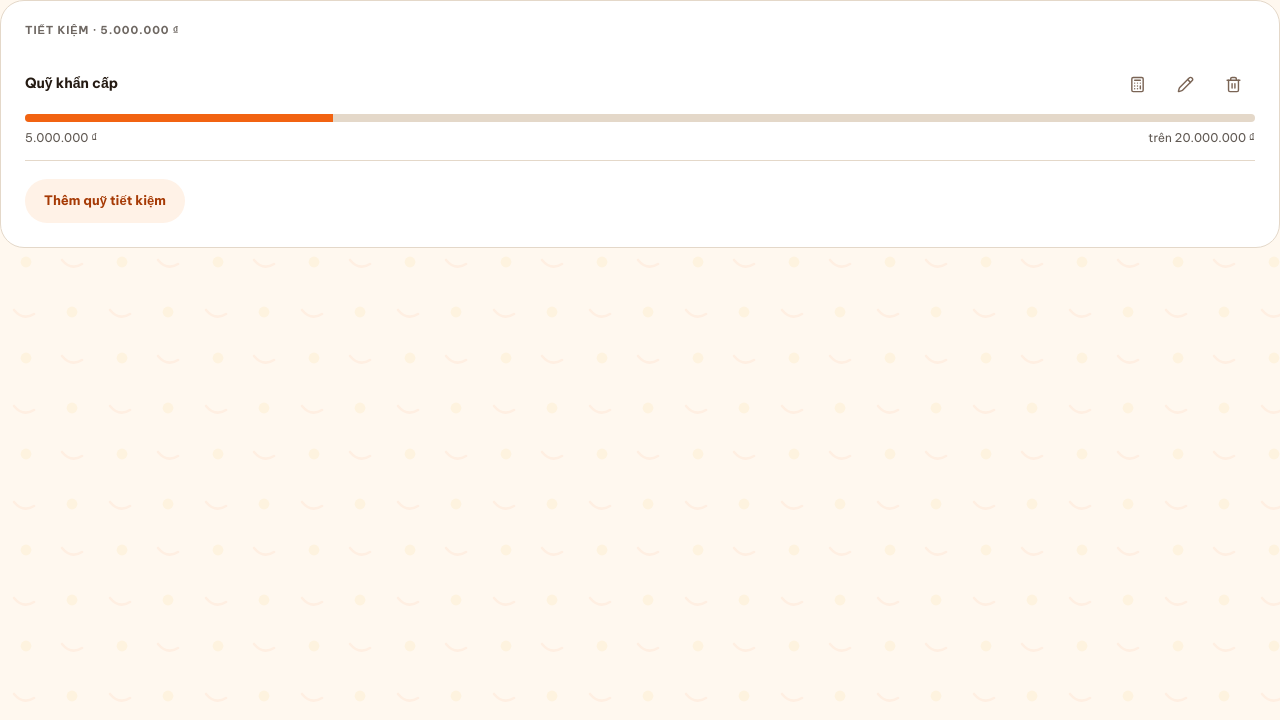
SavingsTab › confirming the quick adjust modal reports the fund's name and updated amount
The width and height of the screenshot is (1280, 720).
Click the button named "Điều chỉnh số dư Quỹ khẩn cấp": [1137, 84] box [1115,62,1159,106]
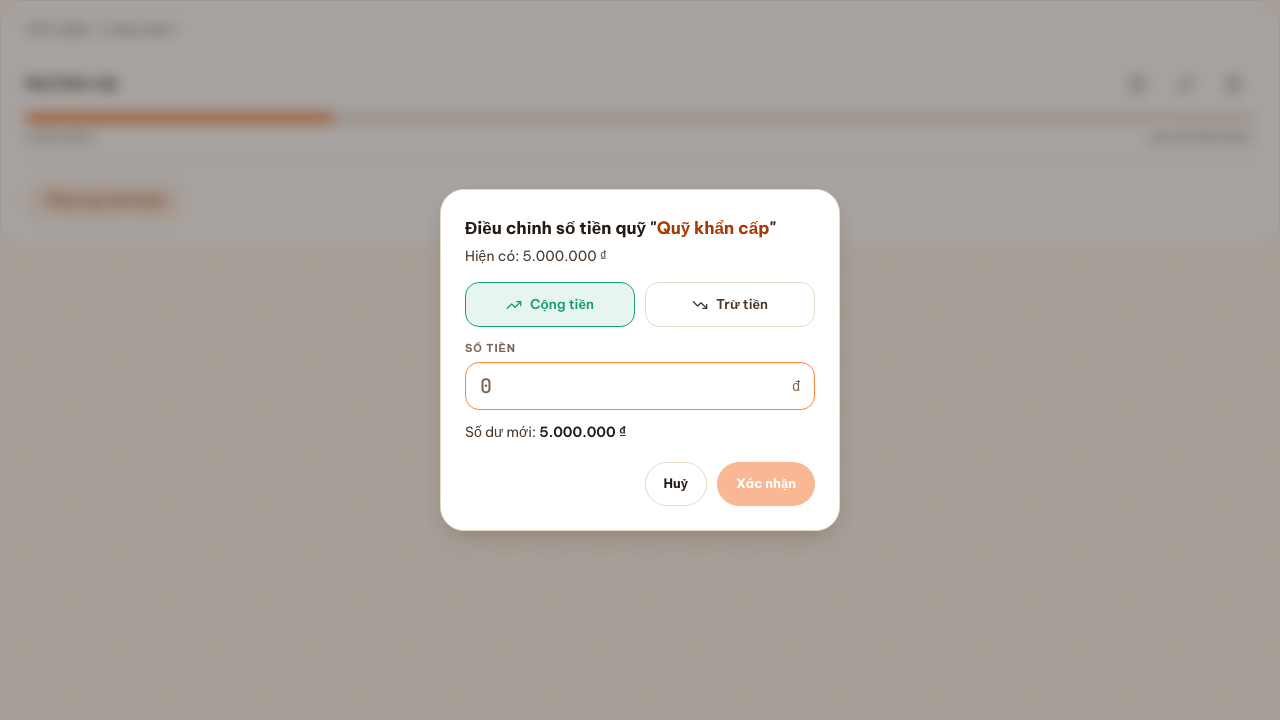
In the field: [632, 386] box [480,363,784,409], type "1000000"
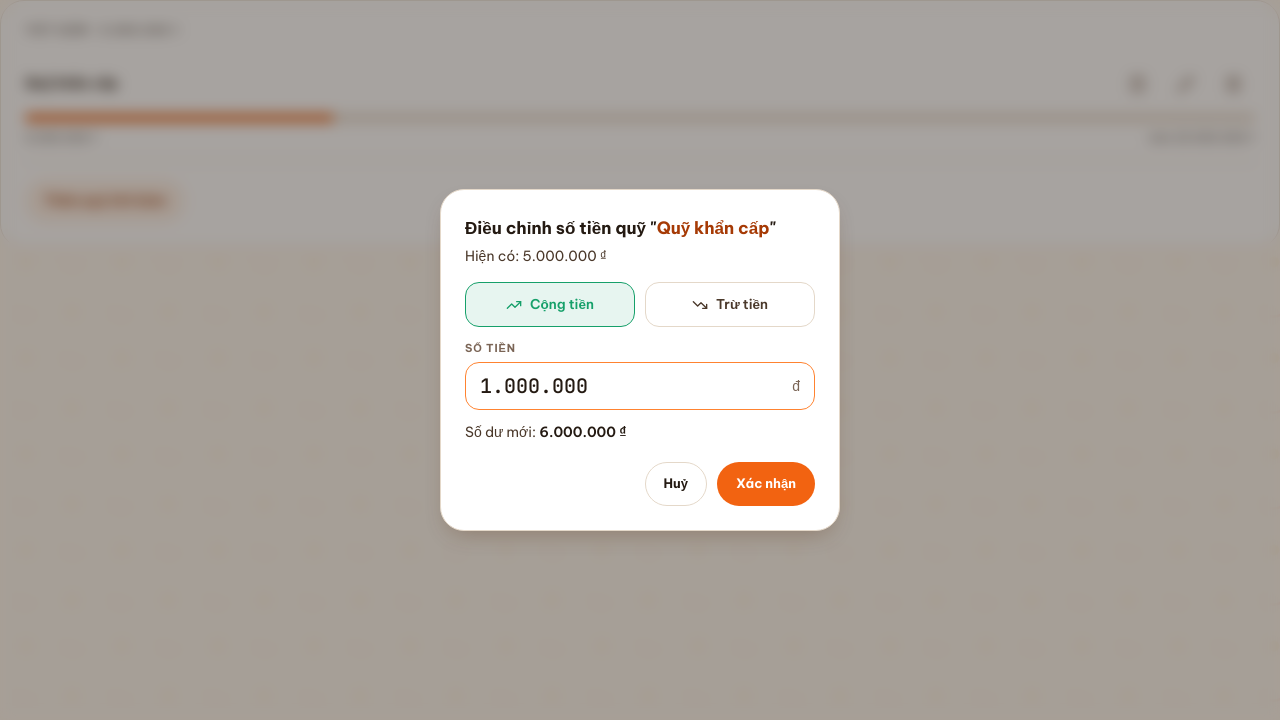
Click the button "Xác nhận": [766, 484] box [717,462,815,506]
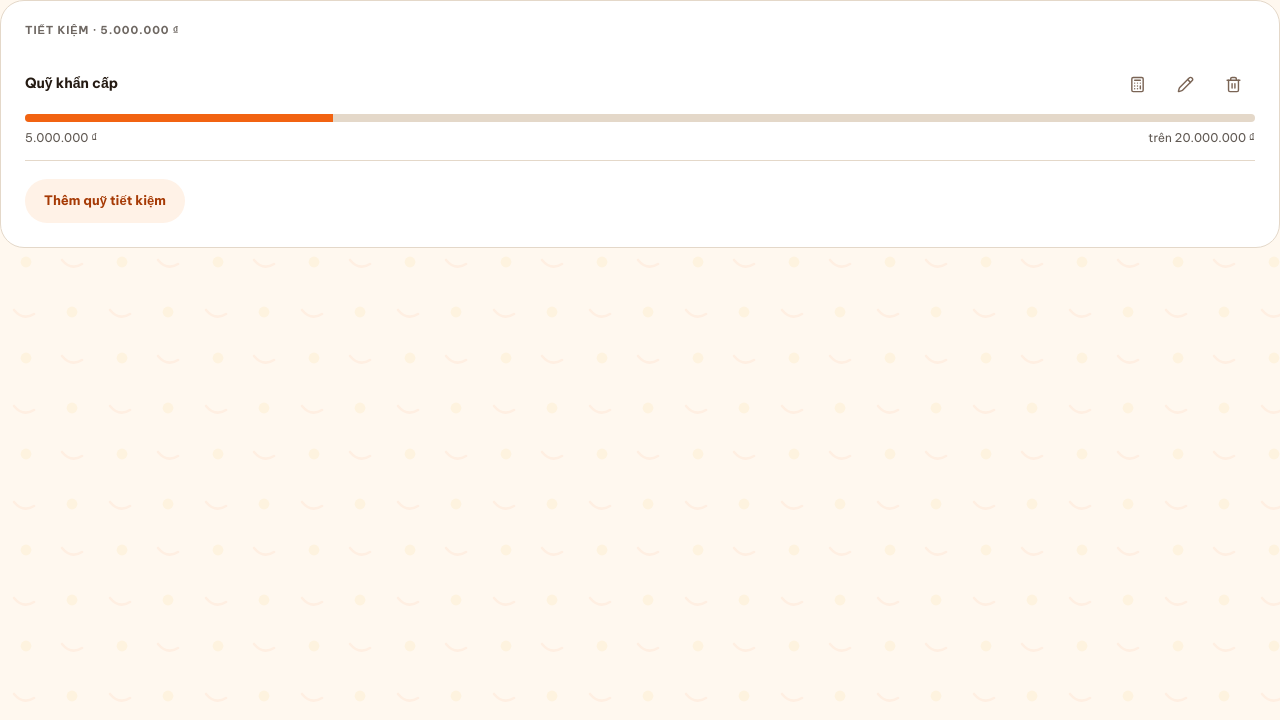
Expected: the text "Điều chỉnh số tiền quỹ" is gone
